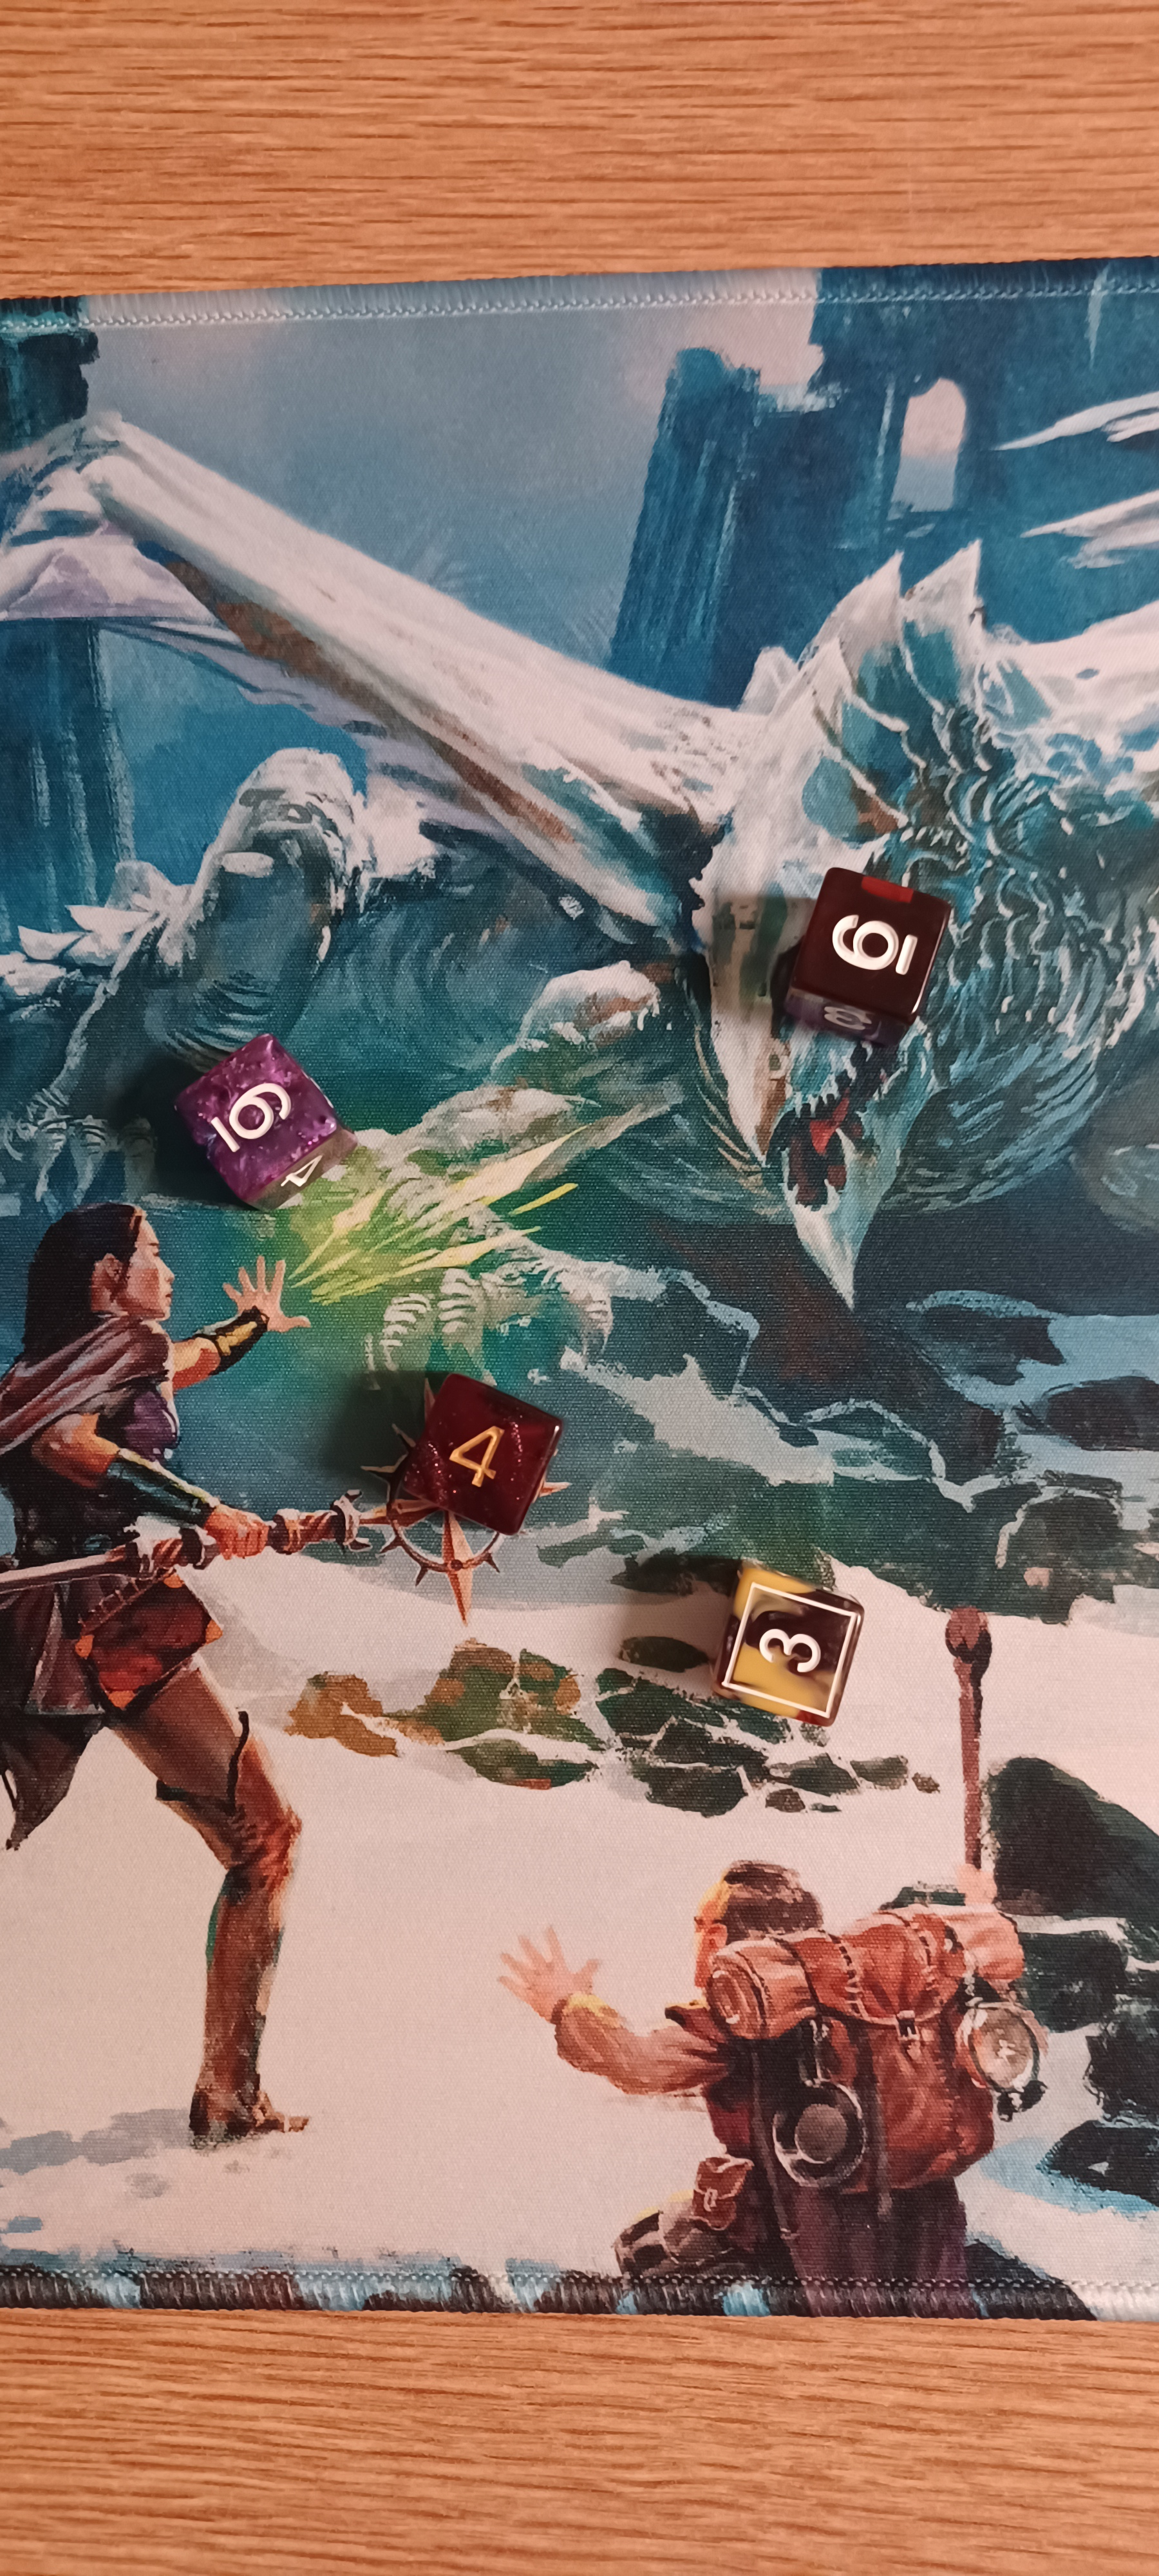four: (364, 1344, 586, 1576)
six: (754, 835, 987, 1050), (161, 1019, 373, 1209)
three: (665, 1520, 919, 1766)
